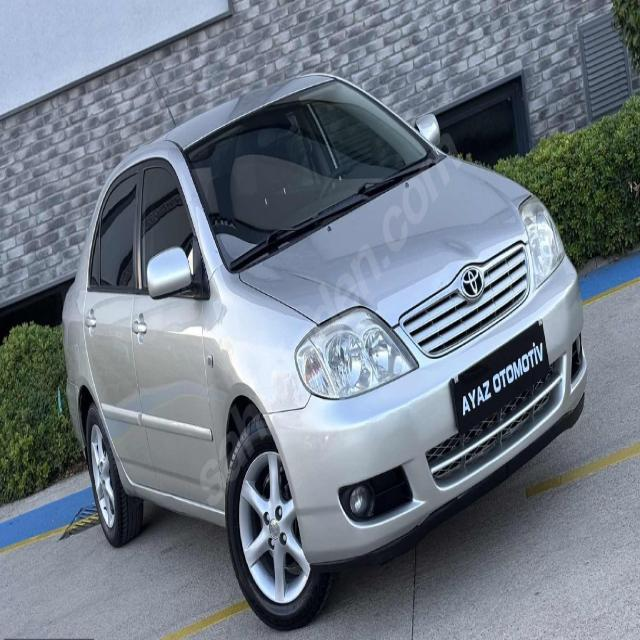toyota: (460, 261, 486, 303)
